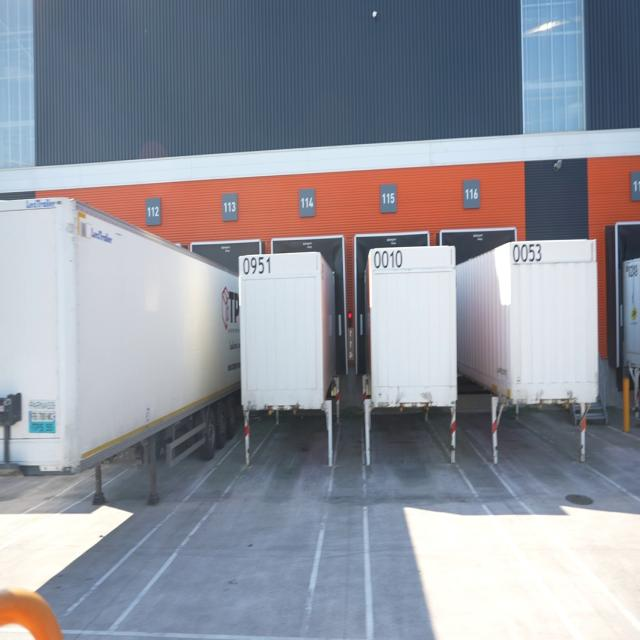Code: (241, 254, 275, 278), (509, 242, 543, 266), (372, 248, 407, 271)
